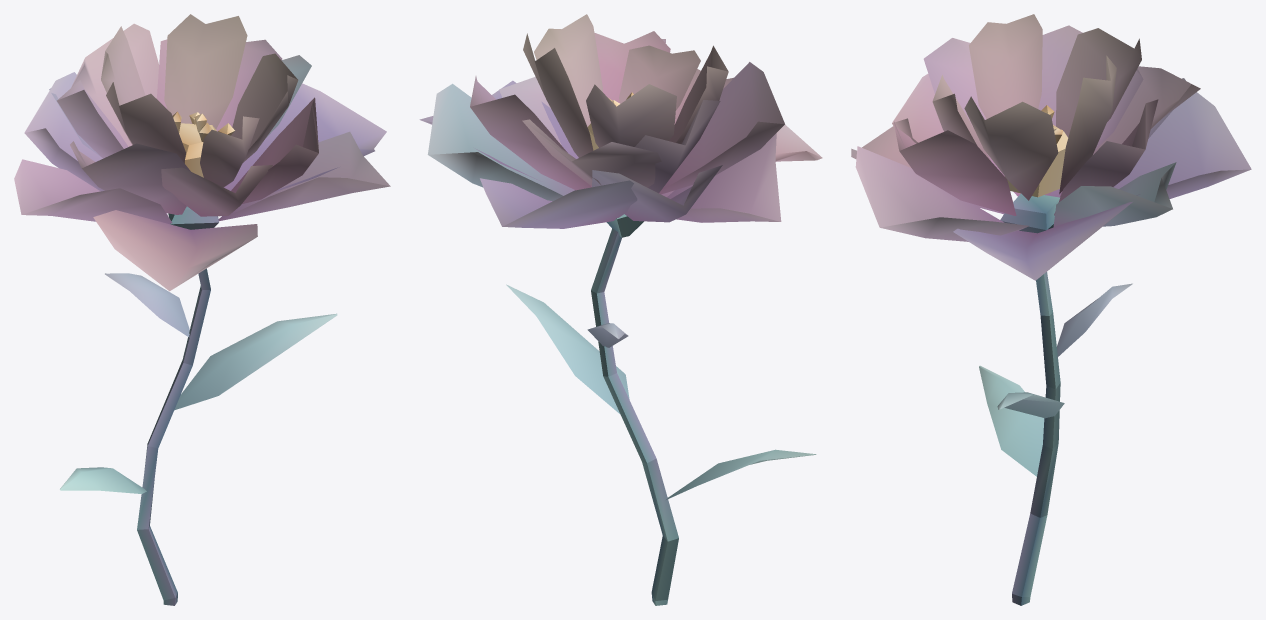
Rendered from crystal_flower_lod.glb.
3 views of the same model, side by side, from view 1: azimuth 30°, elevation 25°; view 2: azimuth 150°, elevation 25°; view 3: azimuth 270°, elevation 25° (orthographic). The views are drawn at different scales.
Visible parts, largest first — view 1: Outer Petal Pivot LOD, Middle Petal Pivot LOD, Inner Petal Pivot LOD, Stem, calyx and foliage LOD, Champagne heart LOD; view 2: Outer Petal Pivot LOD, Middle Petal Pivot LOD, Inner Petal Pivot LOD, Stem, calyx and foliage LOD; view 3: Outer Petal Pivot LOD, Inner Petal Pivot LOD, Middle Petal Pivot LOD, Stem, calyx and foliage LOD, Champagne heart LOD.
Boxes of the visible parts, left/top/right/bottom form: Outer Petal Pivot LOD: left=14, top=55, right=390, bottom=291; Middle Petal Pivot LOD: left=57, top=23, right=318, bottom=216; Inner Petal Pivot LOD: left=101, top=14, right=298, bottom=187; Stem, calyx and foliage LOD: left=60, top=206, right=337, bottom=605; Champagne heart LOD: left=172, top=111, right=234, bottom=177; Outer Petal Pivot LOD: left=419, top=39, right=822, bottom=228; Middle Petal Pivot LOD: left=470, top=31, right=784, bottom=194; Inner Petal Pivot LOD: left=523, top=14, right=728, bottom=157; Stem, calyx and foliage LOD: left=506, top=214, right=816, bottom=605; Outer Petal Pivot LOD: left=851, top=78, right=1251, bottom=280; Inner Petal Pivot LOD: left=932, top=14, right=1141, bottom=200; Middle Petal Pivot LOD: left=892, top=25, right=1200, bottom=215; Stem, calyx and foliage LOD: left=979, top=193, right=1132, bottom=605; Champagne heart LOD: left=1005, top=105, right=1068, bottom=197.
Size of the model in its own units: 0.4262 by 0.6236 by 0.3917.
